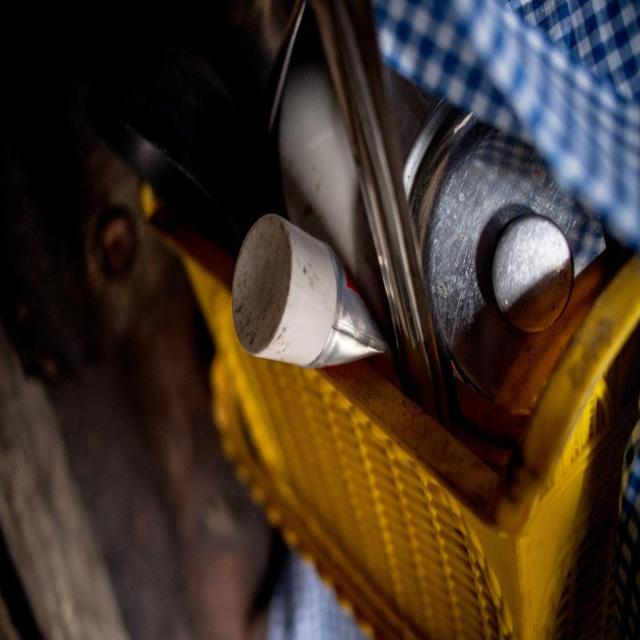Toothpaste: (230, 205, 396, 414)
